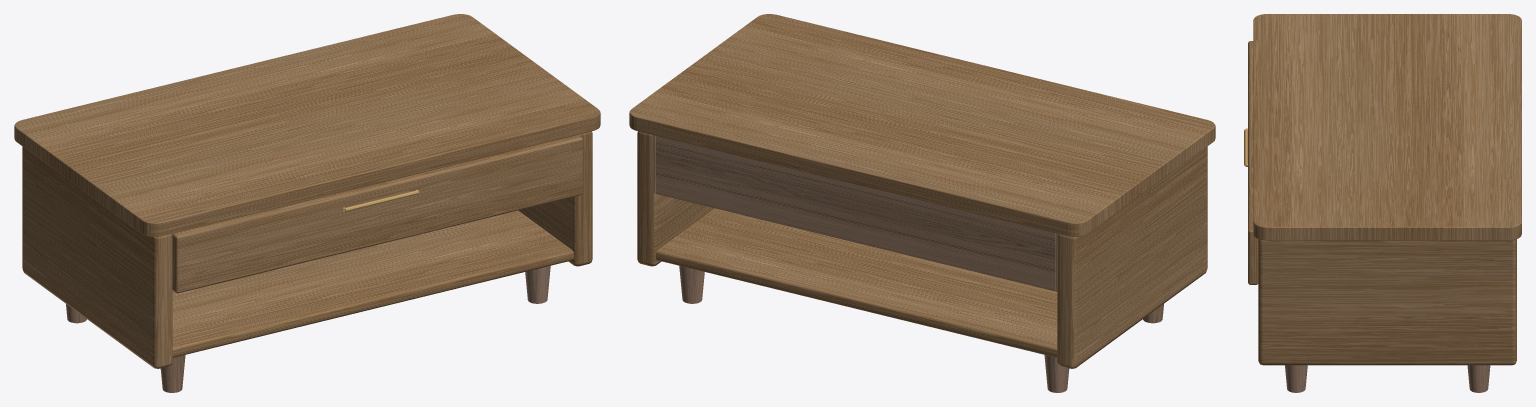
File: table-refined.glb
3 renders of one model, left to right at view 1: azimuth 30°, elevation 25°; view 2: azimuth 150°, elevation 25°; view 3: azimuth 270°, elevation 25°, orthographic. The views are drawn at different scales.
Parts seen in each view (by area): view 1: table-refined; view 2: table-refined; view 3: table-refined.
Part boxes in pixels (x1,y1,x2,y2): table-refined: [14, 14, 600, 392]; table-refined: [629, 14, 1215, 392]; table-refined: [1244, 14, 1521, 392].
Bounding box in the file's own units: 1 × 0.4 × 0.55.
Materials: 4 (2 with a texture image).
